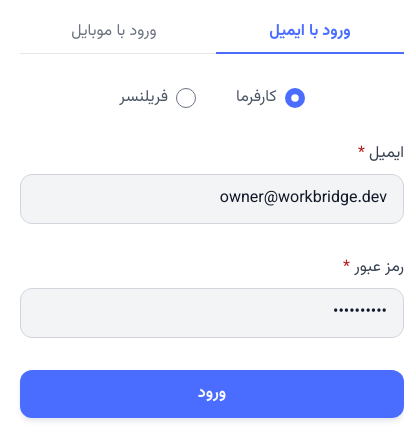
Test case: AuthContainer › shows the phone error and sends nothing for a malformed number
The image size is (416, 439).
Click the tab "ورود با موبایل" at (114, 33), box [20,12,208,54]
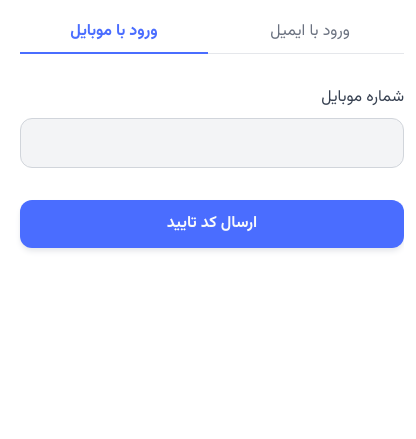
Type "0912" into the field labelled "شماره موبایل" at (212, 143), box [20,118,404,168]
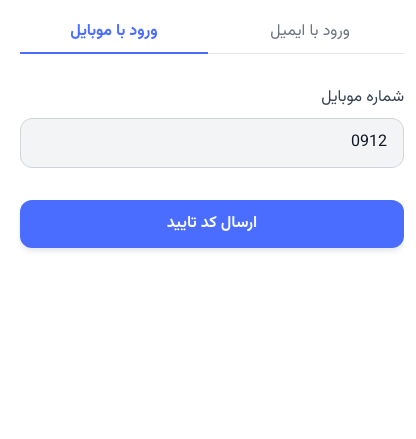
Click the button "ارسال کد تایید" at (212, 224), box [20,200,404,248]
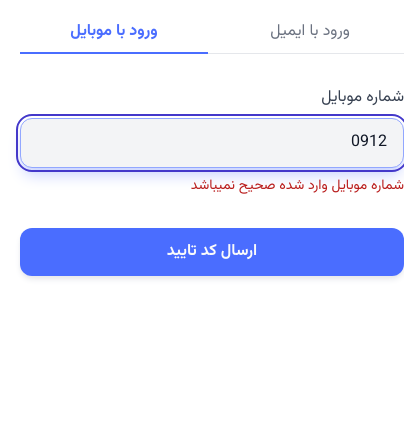
Expected: the text "شماره موبایل وارد شده صحیح نمیباشد" is shown, [191,175,404,197]
